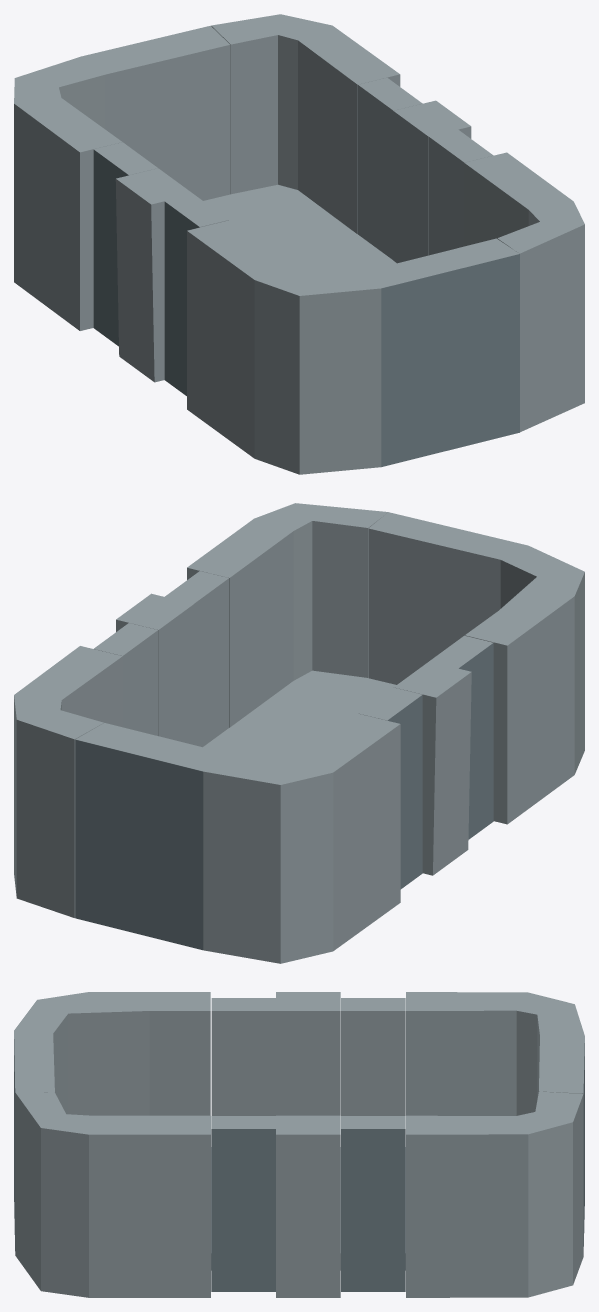
The model's file is TinBass.fbx.
The picture shows the model from 3 angles, top to bottom: view 1: azimuth 30°, elevation 25°; view 2: azimuth 150°, elevation 25°; view 3: azimuth 270°, elevation 25°; orthographic projection. The views are drawn at different scales.
Parts seen in each view (by area): view 1: Cube; view 2: Cube; view 3: Cube.
Part boxes in pixels (x1,y1,x2,y2): Cube: (14,14,584,474); Cube: (14,503,584,963); Cube: (14,992,584,1297).
Size of the model in its own units: 3.75 by 2 by 6.34.
1 material, 1 textured.
